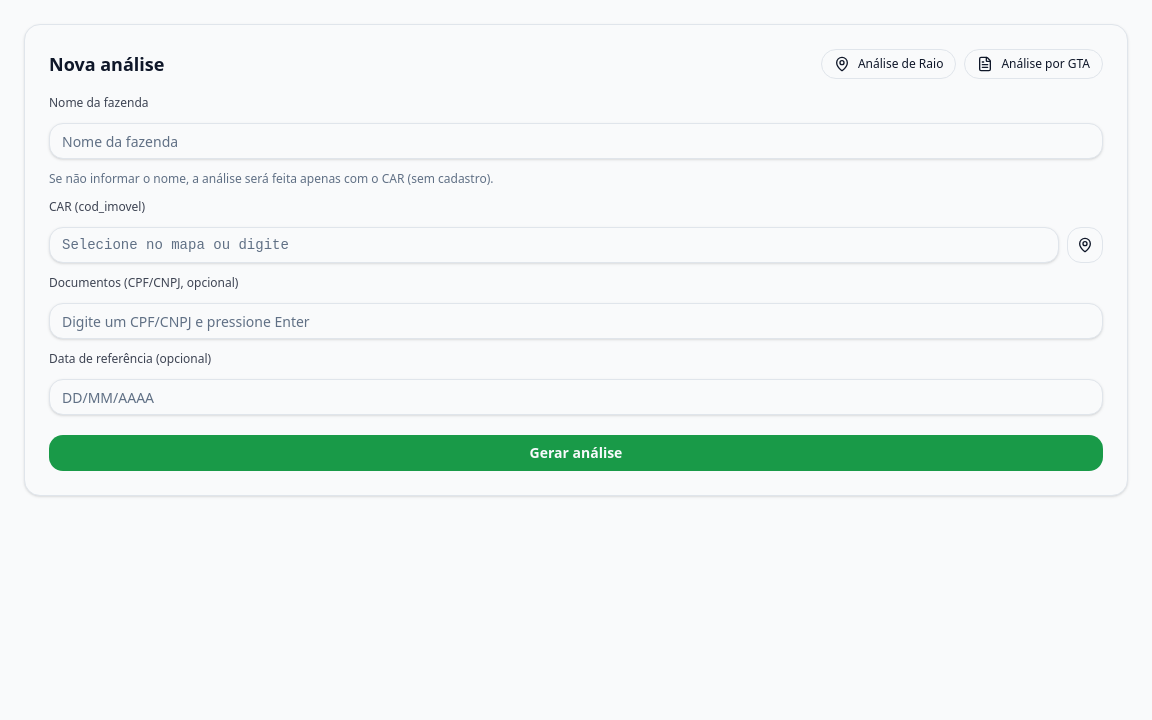
Test case: NewAnalysisView › auto-fills farm data on Enter when CPF/CNPJ is valid
The width and height of the screenshot is (1152, 720).
Type "529.982.247-25" into the field with id "analysis-doc" at x=576, y=321, box [49,303,1103,339]
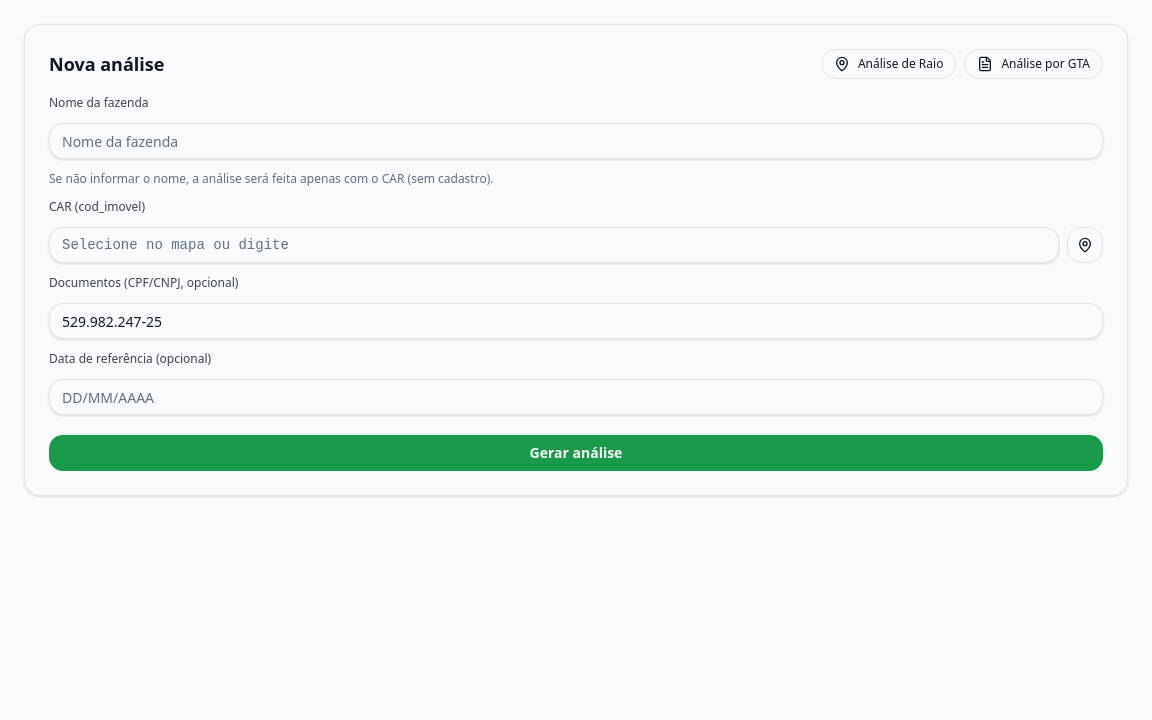
Press Enter in the field with id "analysis-doc", box [49,303,1103,339]
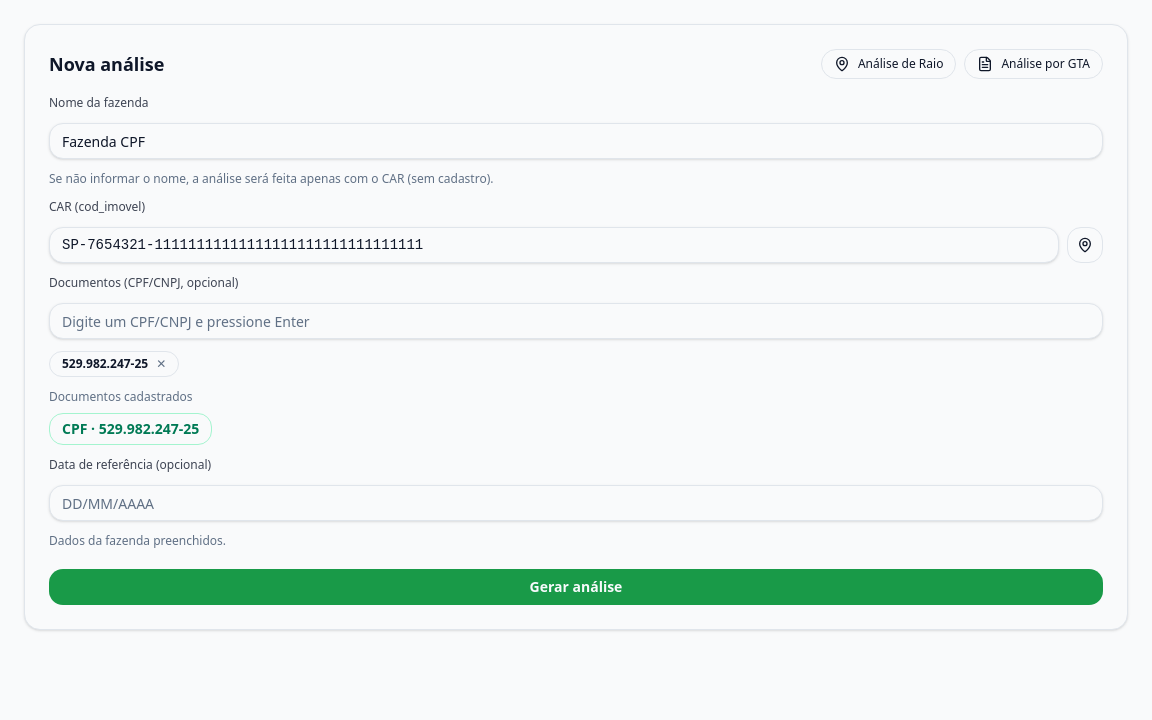
Result: the field with id "analysis-name" holds "Fazenda CPF" at [49,123,1103,159]
